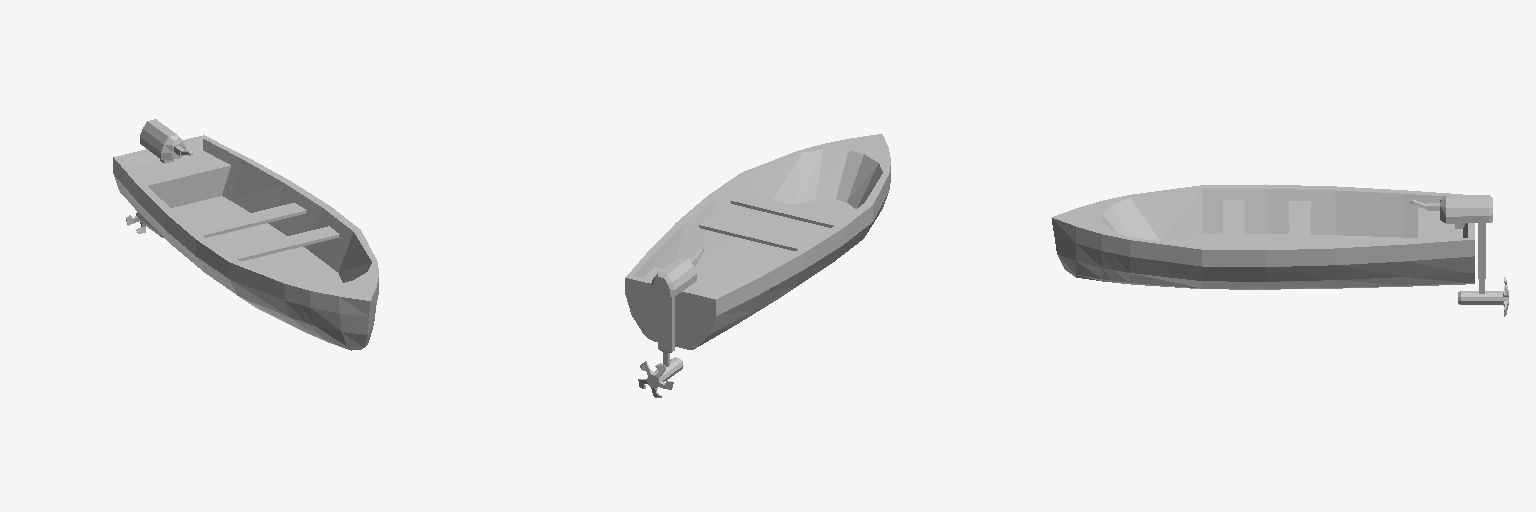
File: Bote_Madera.obj
3 views of the same model, side by side, from view 1: azimuth 30°, elevation 25°; view 2: azimuth 150°, elevation 25°; view 3: azimuth 270°, elevation 25° (orthographic).
Visible parts, largest first — view 1: Wood_BoatV2_Cube.018; view 2: Wood_BoatV2_Cube.018; view 3: Wood_BoatV2_Cube.018.
Part boxes in pixels (x1,y1,x2,y2): Wood_BoatV2_Cube.018: (113, 119, 378, 350); Wood_BoatV2_Cube.018: (625, 134, 890, 397); Wood_BoatV2_Cube.018: (1051, 184, 1508, 316).
Bounding box in the file's own units: 1.49 × 1.24 × 4.36.